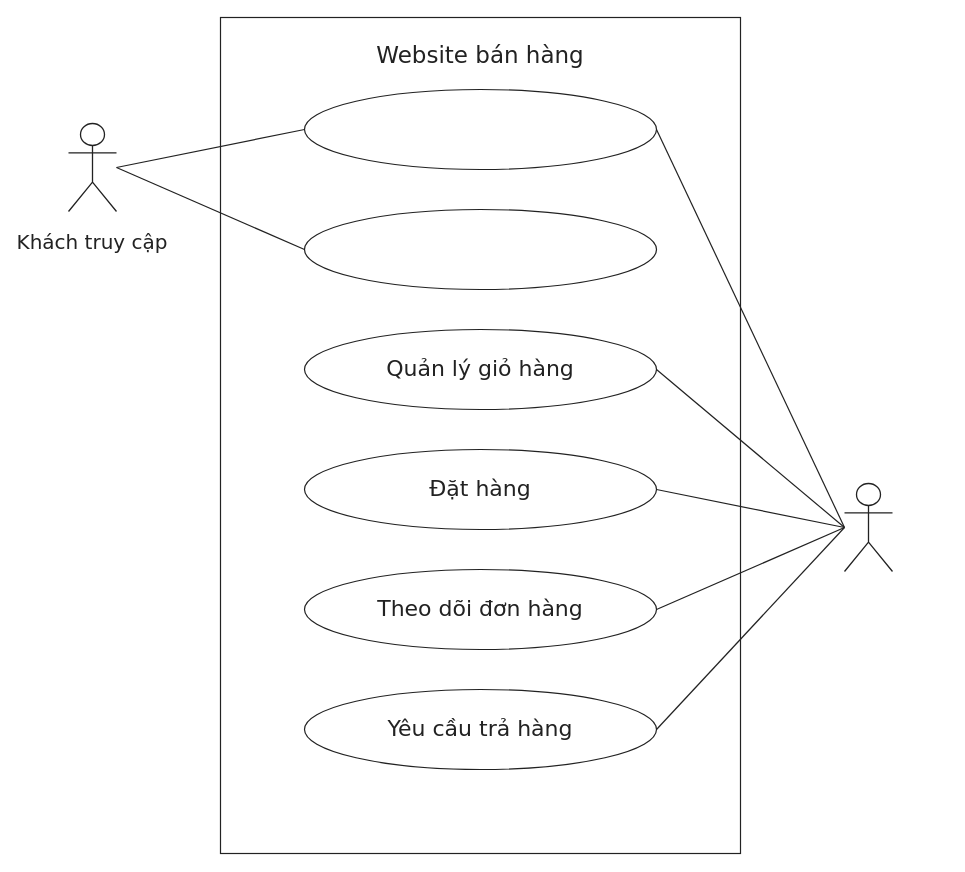
Image size: 965x872. Some labels were removed from this diagram. Each missing label, with the centre of its shape:
"Khách hàng" goes at point (868, 527).
"Tìm kiếm sản phẩm" goes at point (480, 129).
"Đăng ký / đăng nhập" goes at point (480, 249).
